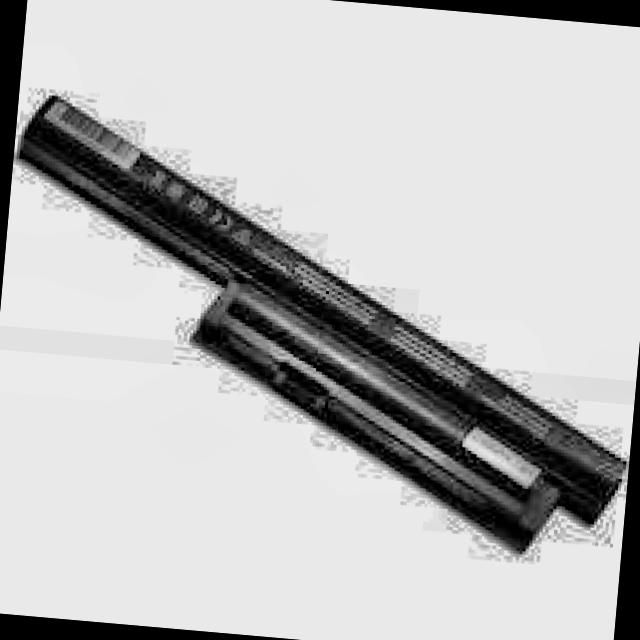Battery: (0, 86, 640, 574)
